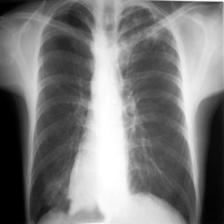tuberculosis: (22, 0, 203, 224)
